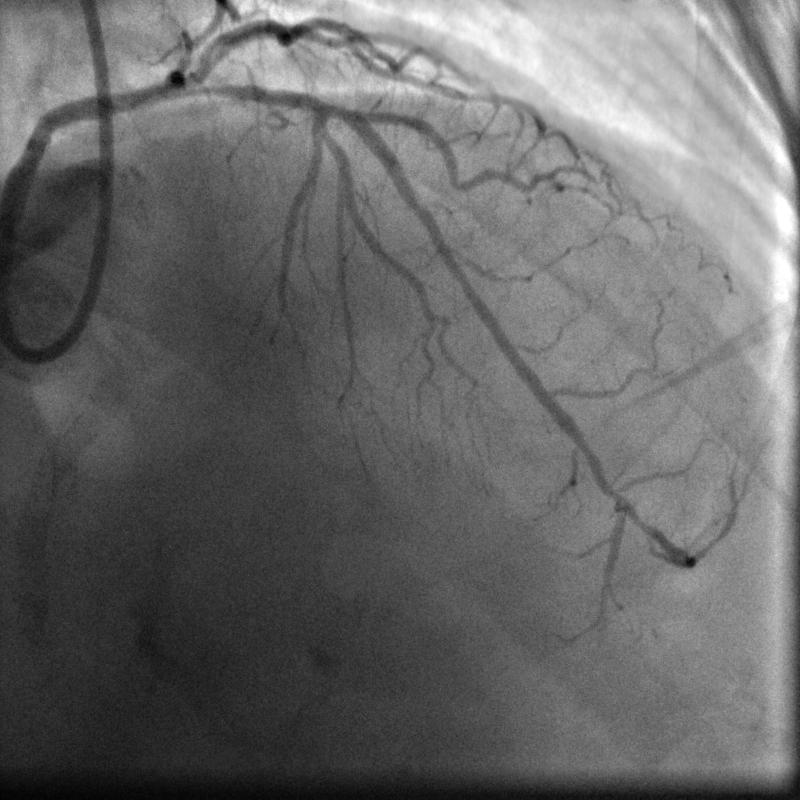Stenosis: (173, 76, 245, 100)
